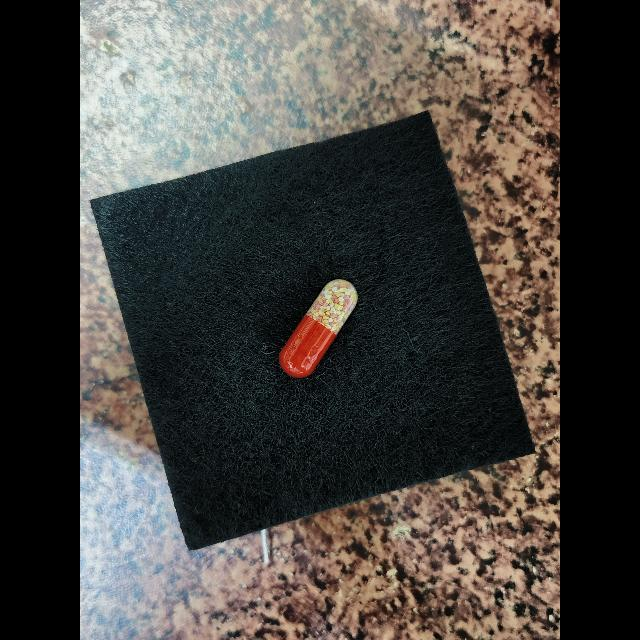Intact Capsule: (279, 279, 358, 378)
